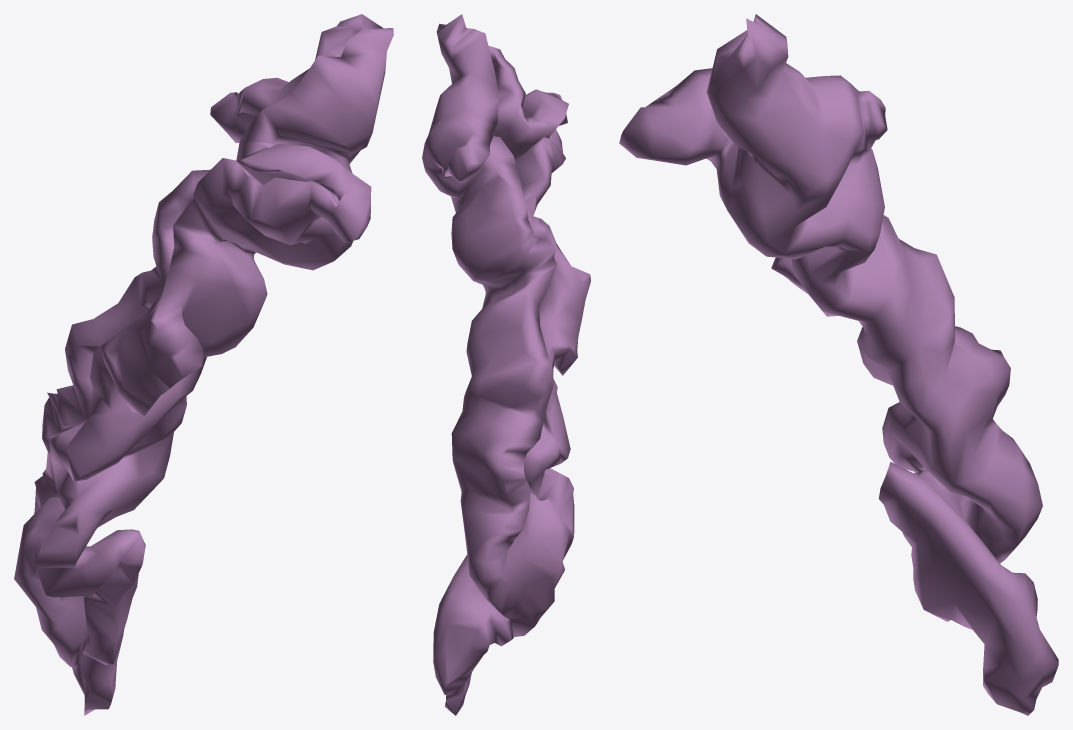
The picture shows the model from 3 angles, left to right: view 1: azimuth 30°, elevation 25°; view 2: azimuth 150°, elevation 25°; view 3: azimuth 270°, elevation 25°; orthographic projection. The views are drawn at different scales.
Parts seen in each view (by area): view 1: 右侧颞上沟; view 2: 右侧颞上沟; view 3: 右侧颞上沟.
Boxes of the visible parts, x1,y1,x2,y2 form: 右侧颞上沟: [14, 14, 393, 715]; 右侧颞上沟: [422, 14, 590, 715]; 右侧颞上沟: [619, 14, 1058, 715].
Bounding box in the file's own units: 0.0527 × 0.1453 × 0.0759.
